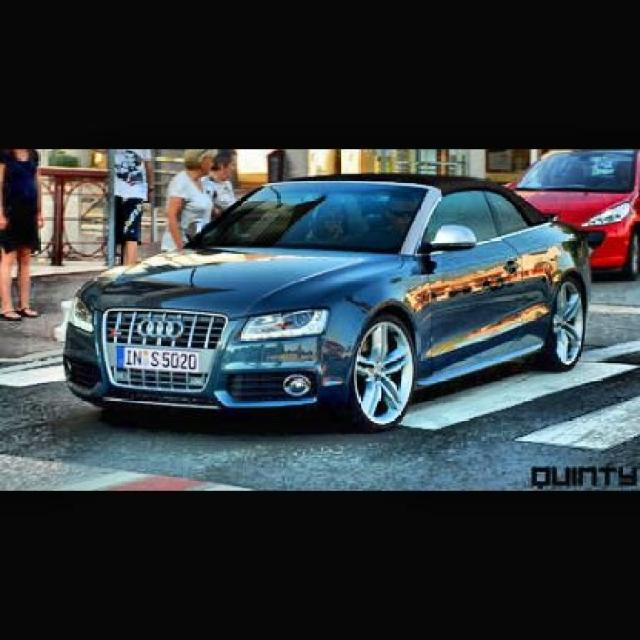black: (70, 159, 572, 489)
red: (536, 147, 640, 266)
